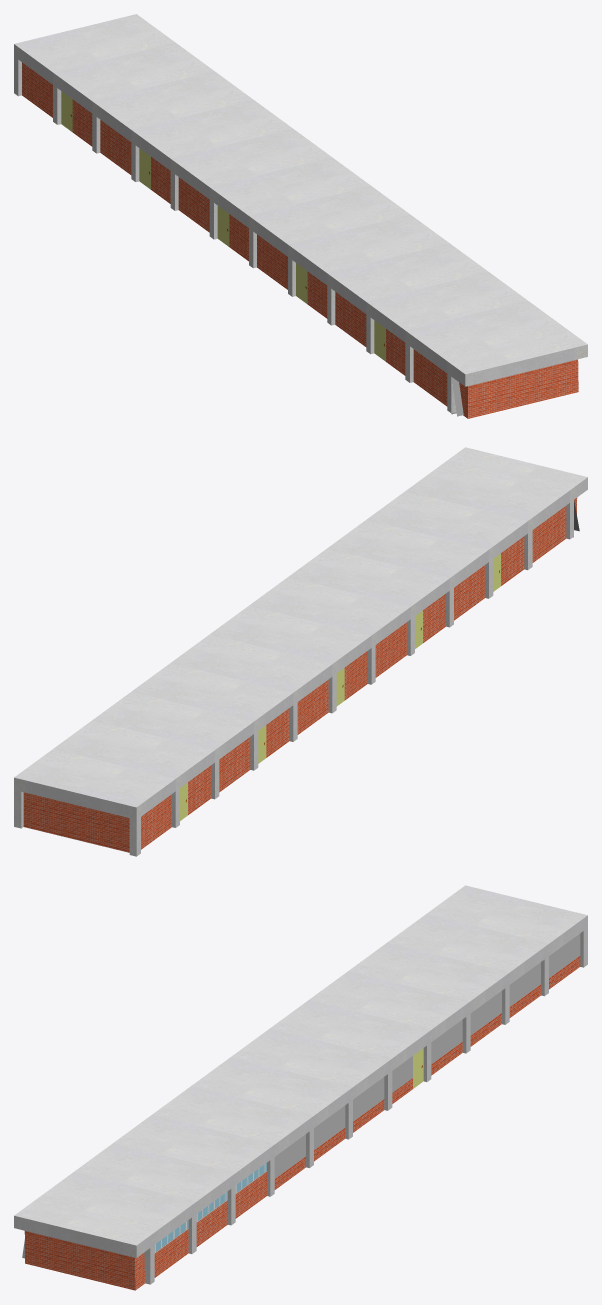
Rendered from pabellon_4a.fbx.
3 views of the same model, one above another, from view 1: azimuth 30°, elevation 25°; view 2: azimuth 150°, elevation 25°; view 3: azimuth 330°, elevation 25° (orthographic).
Visible parts, largest first — view 1: pabellon_4a_final; view 2: pabellon_4a_final; view 3: pabellon_4a_final.
Part boxes in pixels (bbox=[...]): pabellon_4a_final: bbox=[14, 14, 587, 418]; pabellon_4a_final: bbox=[14, 447, 587, 856]; pabellon_4a_final: bbox=[14, 885, 587, 1290].
Size of the model in its own units: 959 by 376 by 6108.
